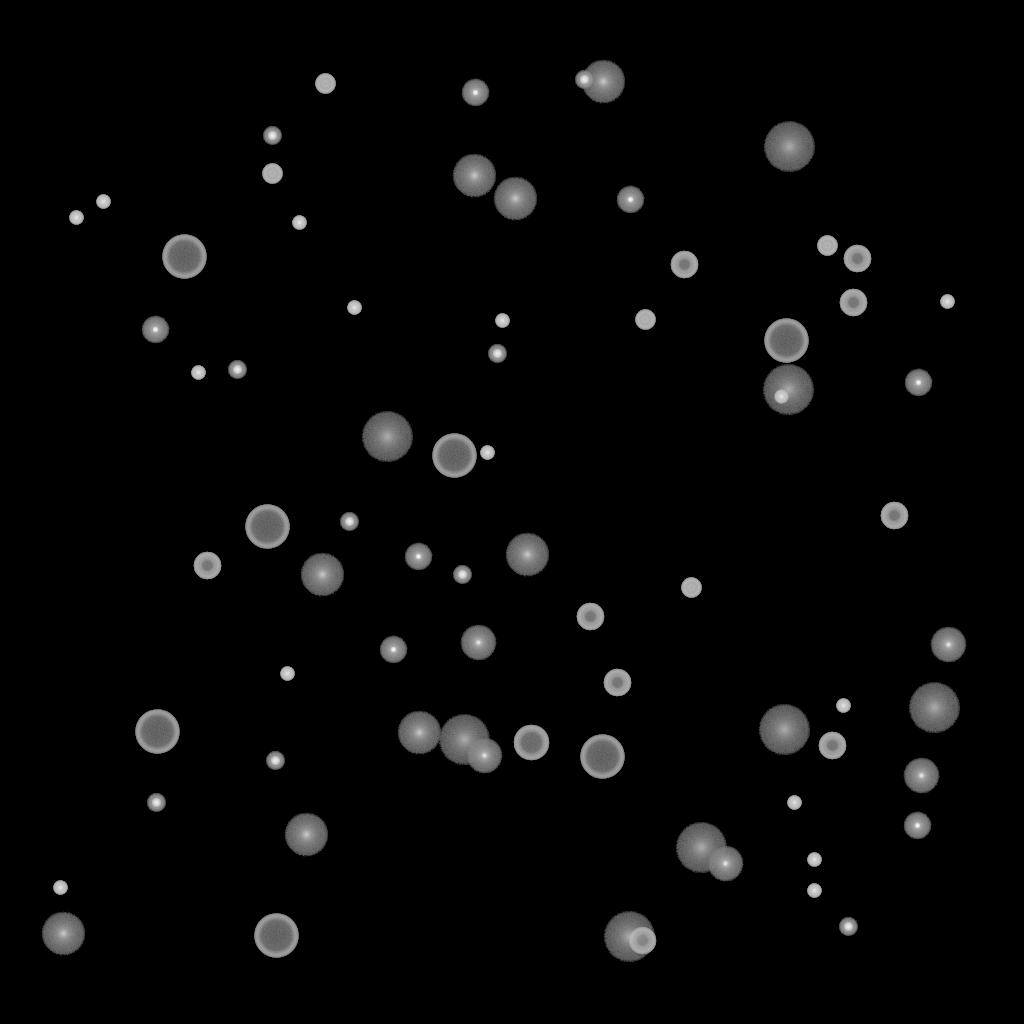depth:-10: (616, 186, 644, 214), (141, 316, 169, 344), (904, 369, 932, 397), (461, 79, 489, 107), (903, 812, 931, 840), (404, 543, 432, 571), (379, 636, 407, 664)
depth:-20: (453, 566, 471, 584), (488, 345, 506, 363), (266, 752, 284, 770), (839, 918, 857, 936), (575, 71, 593, 89), (147, 794, 165, 812), (340, 513, 358, 531), (228, 361, 246, 379), (263, 127, 281, 145)
depth:-30: (280, 667, 294, 681), (347, 301, 361, 315), (292, 216, 306, 230), (495, 314, 509, 328), (787, 796, 801, 810), (940, 295, 954, 309), (191, 366, 205, 380), (53, 881, 67, 895), (807, 853, 821, 867), (807, 884, 821, 898), (836, 699, 850, 713), (96, 195, 110, 209), (480, 446, 494, 460), (774, 390, 788, 404), (69, 211, 83, 225)
depth:-40: (262, 164, 282, 184), (315, 74, 335, 94), (635, 310, 655, 330), (681, 578, 701, 598), (817, 236, 837, 256)
depth:-50: (843, 245, 871, 273), (628, 927, 656, 955), (576, 603, 604, 631), (839, 289, 867, 317), (880, 502, 908, 530), (818, 732, 846, 760), (670, 251, 698, 279), (603, 669, 631, 697), (193, 552, 221, 580)
depth:-60: (513, 725, 549, 761)
depth:-70: (580, 735, 624, 779), (245, 505, 289, 549), (432, 434, 476, 478), (135, 710, 179, 754), (254, 914, 298, 958), (764, 319, 808, 363), (162, 235, 206, 279)
depth:0: (707, 846, 743, 882), (930, 627, 966, 663), (903, 758, 939, 794), (460, 625, 496, 661), (466, 738, 502, 774)
depth:10: (300, 553, 344, 597), (493, 177, 537, 221), (581, 60, 625, 104), (41, 912, 85, 956), (397, 711, 441, 755), (284, 813, 328, 857), (452, 154, 496, 198), (505, 533, 549, 577)
depth:20: (762, 365, 814, 415), (908, 683, 960, 733), (361, 412, 413, 462), (438, 715, 490, 765), (675, 823, 727, 873), (758, 705, 810, 755), (603, 912, 655, 962), (763, 122, 815, 172)
